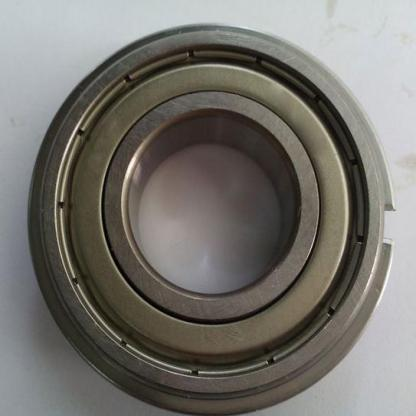FOD: (24, 19, 402, 415)
